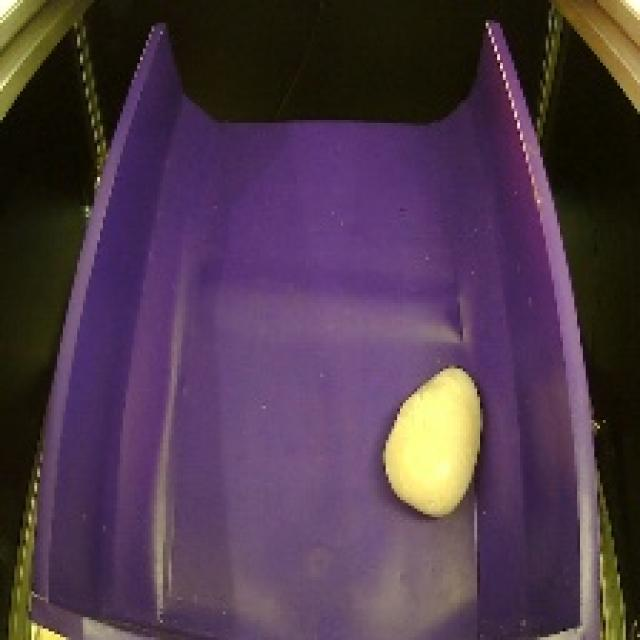cobbles: (366, 357, 495, 520)
